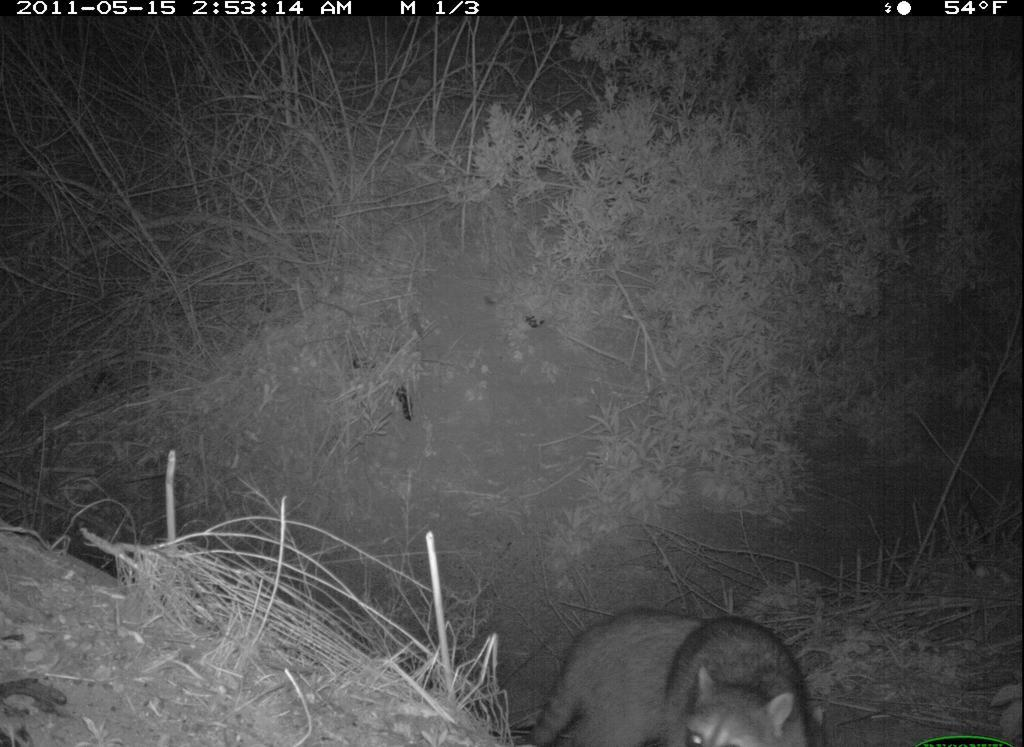raccoon: (513, 585, 831, 745)
